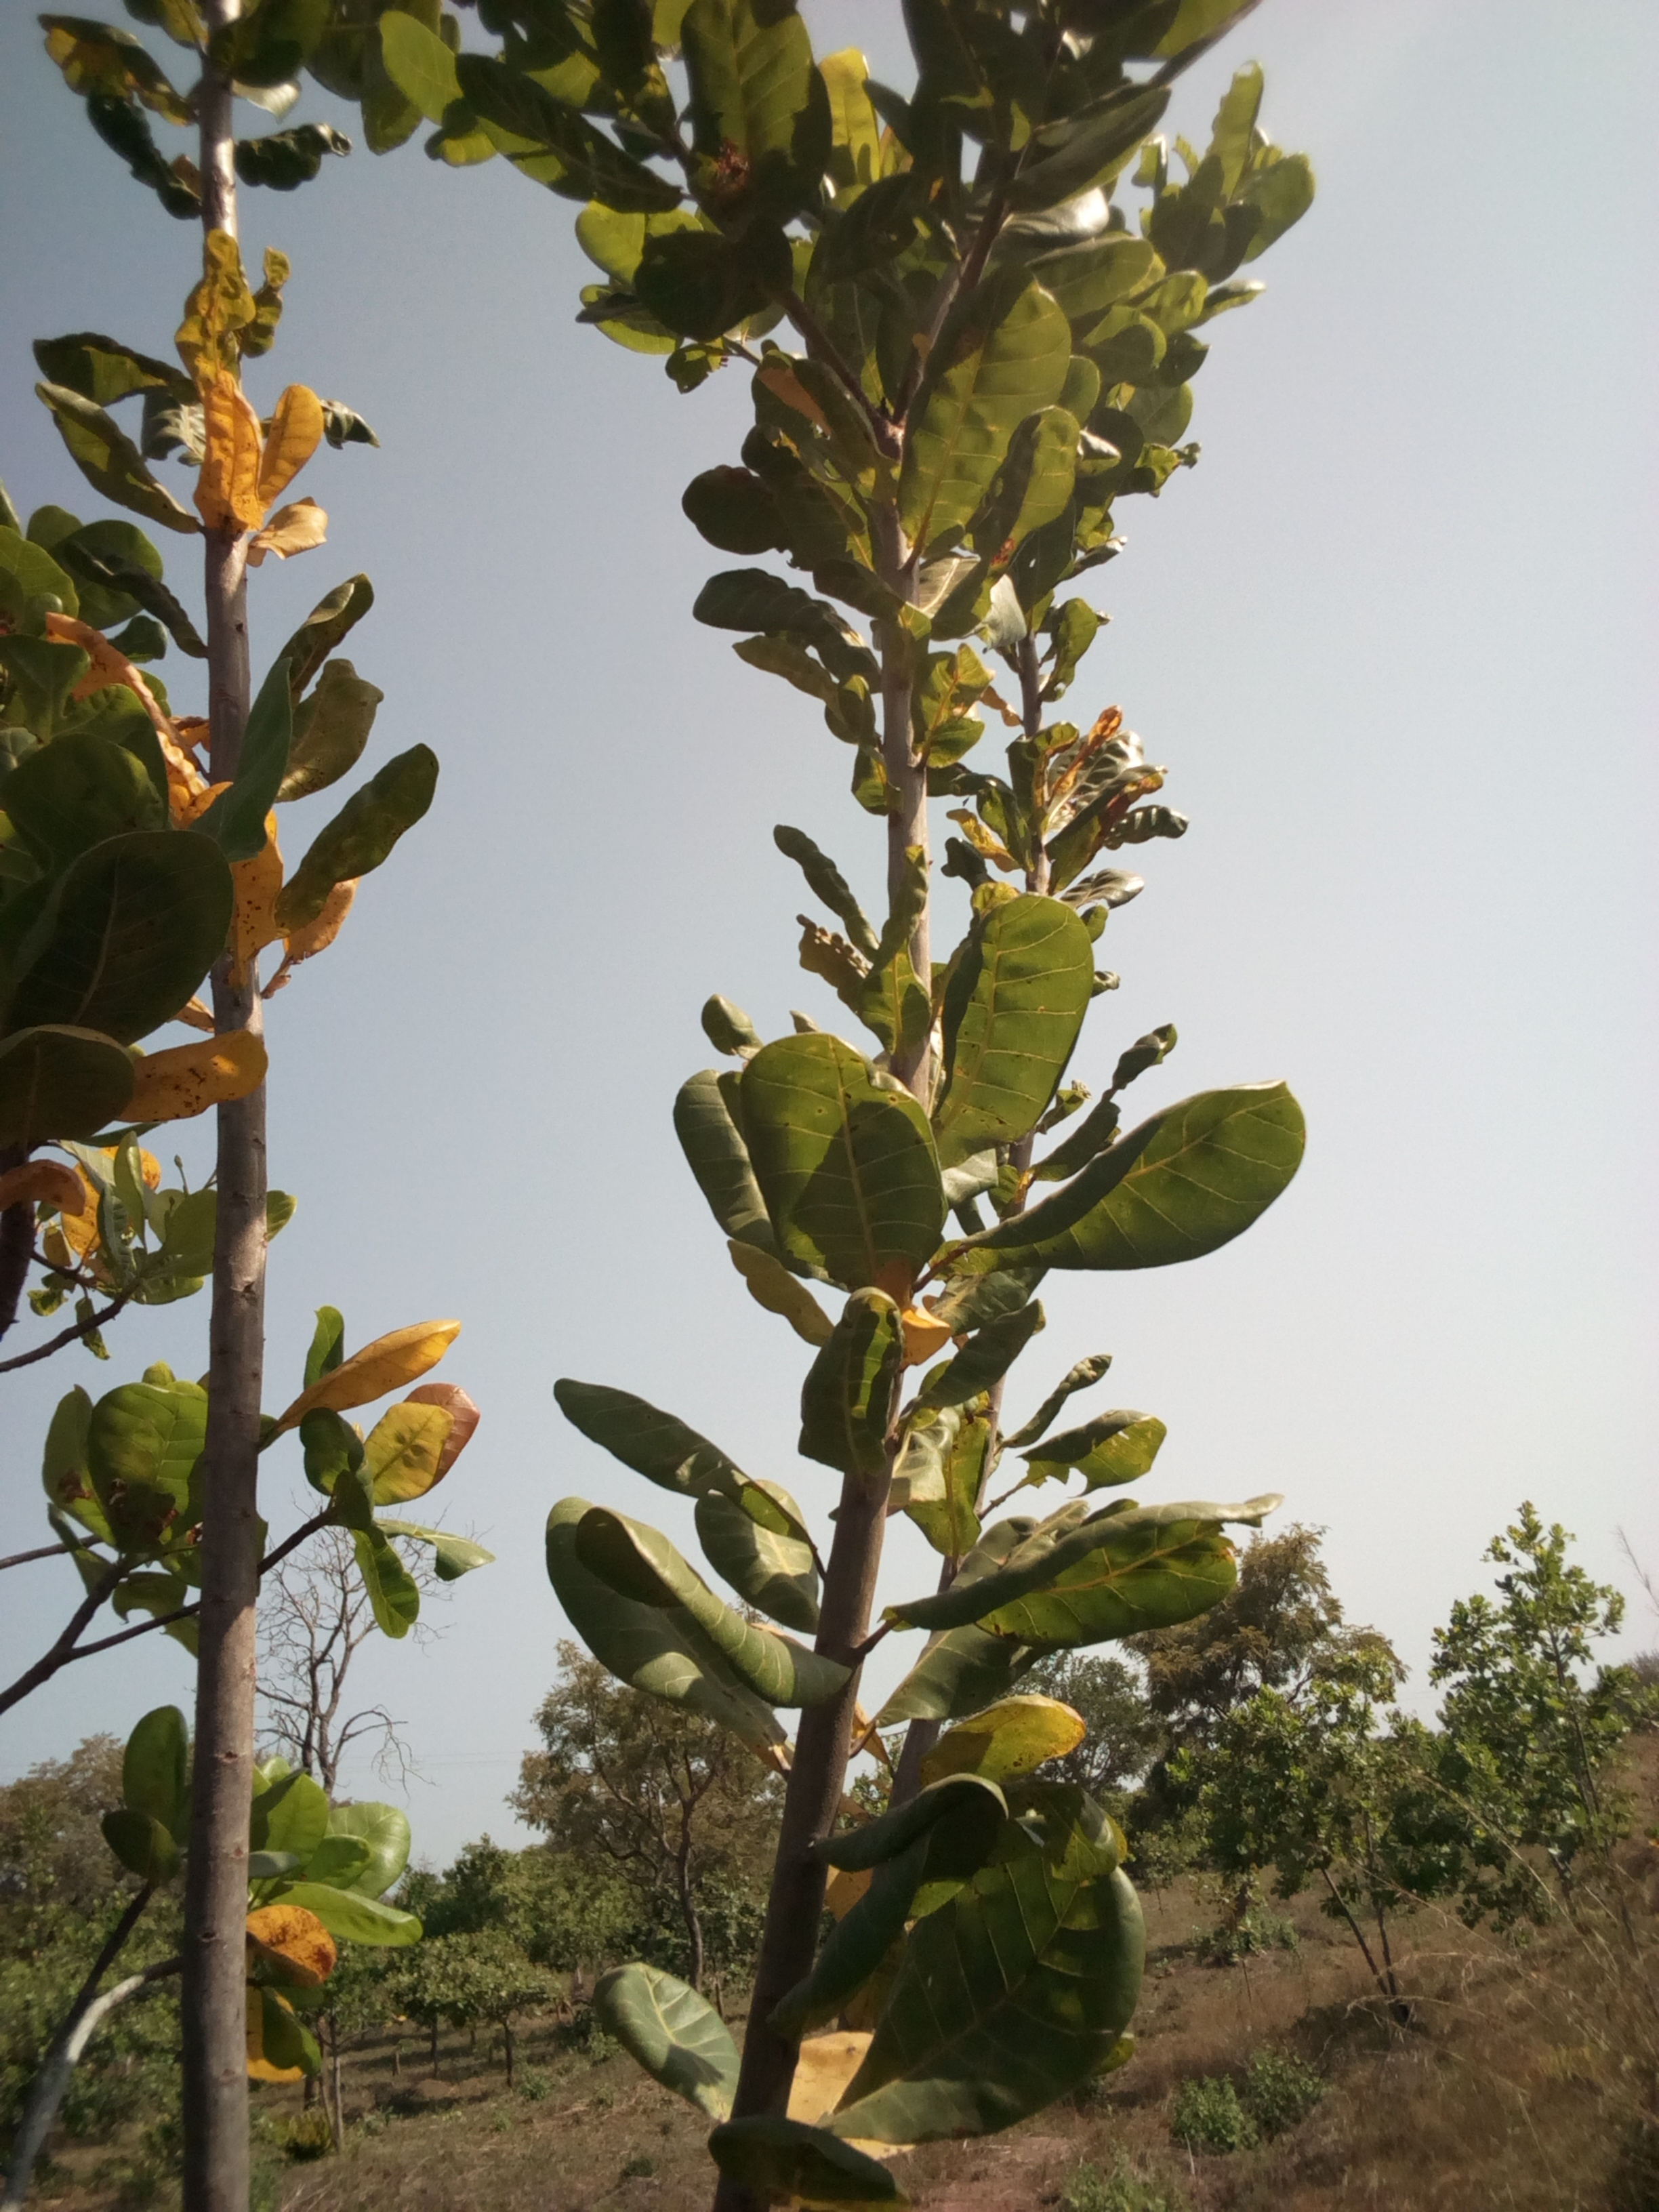Helopeltis anacardii: (575, 1510, 880, 1702), (44, 378, 202, 536), (173, 232, 295, 350)
